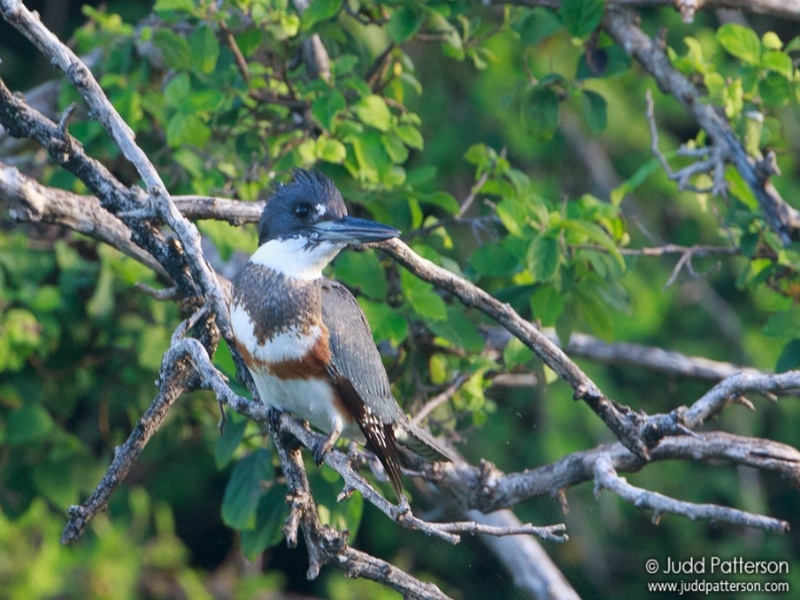kingfisher: (226, 164, 405, 498)
